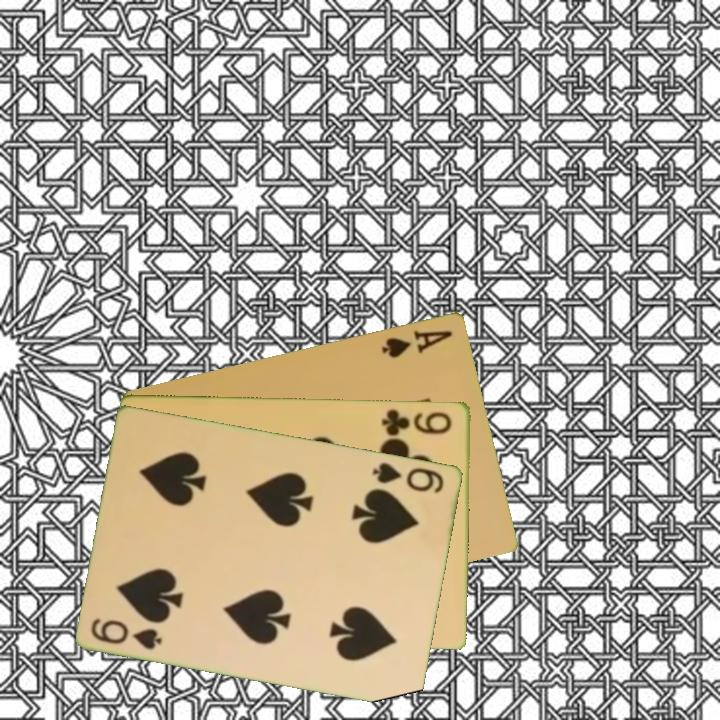6s: (87, 614, 166, 653), (369, 458, 447, 496)
9c: (378, 405, 455, 438)
As: (378, 326, 456, 361)
